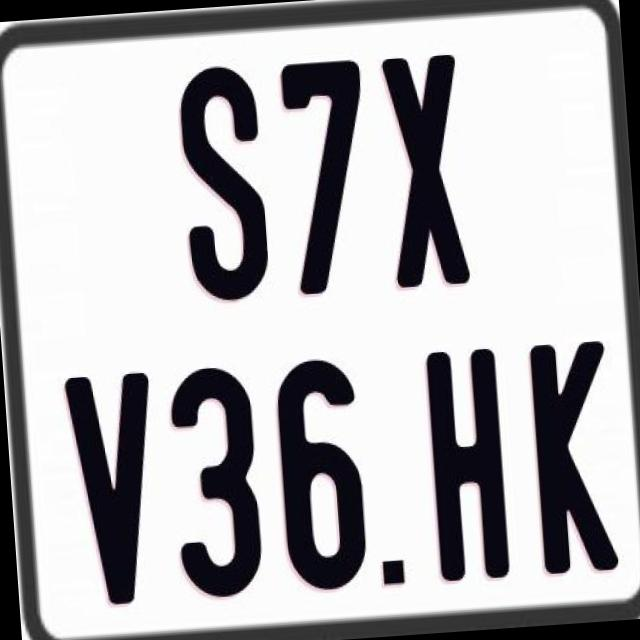3: (166, 362, 270, 598)
6: (270, 354, 364, 596)
7: (278, 54, 381, 291)
H: (421, 342, 512, 584)
K: (525, 341, 623, 578)
S: (172, 61, 272, 302)
V: (59, 367, 164, 610)
X: (378, 49, 470, 288)
